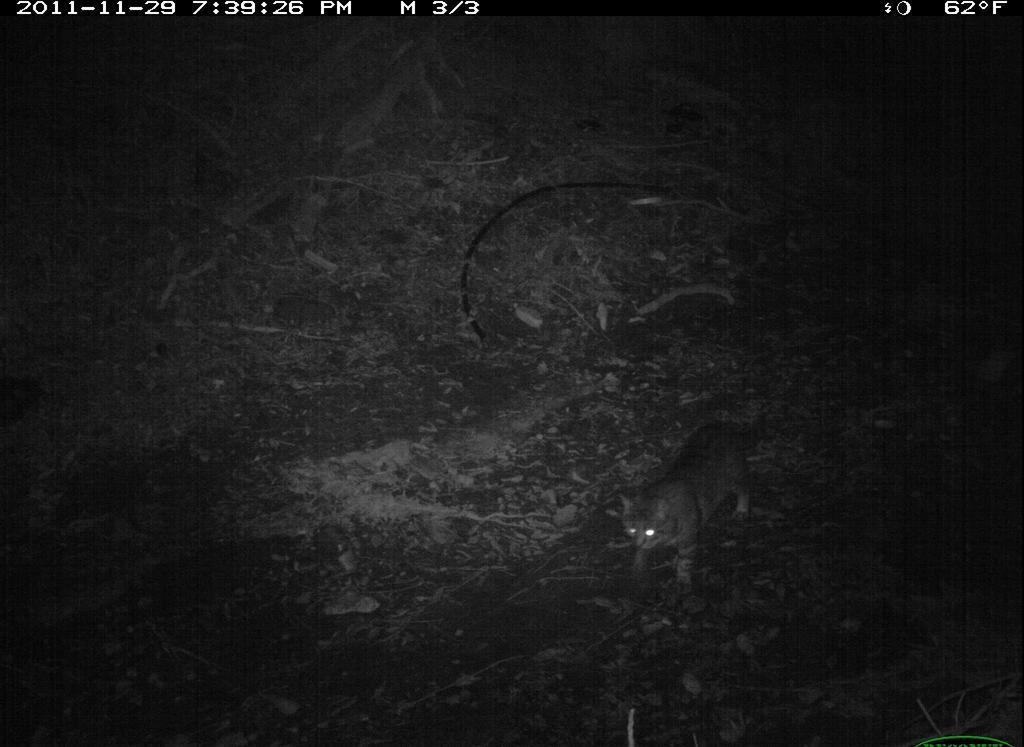cat: (591, 404, 784, 593)
